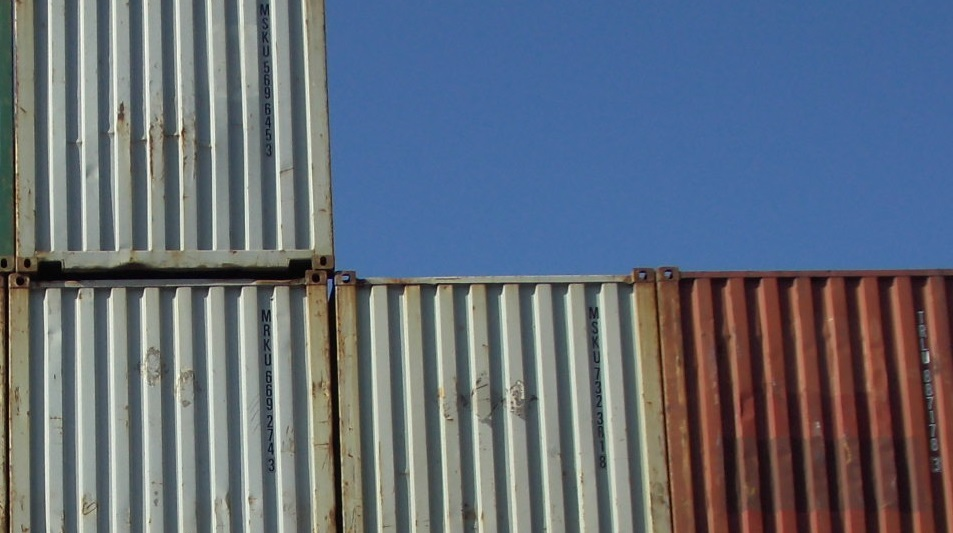container_no_door: (336, 269, 658, 533), (20, 1, 321, 274), (12, 276, 331, 533), (661, 269, 952, 533)
